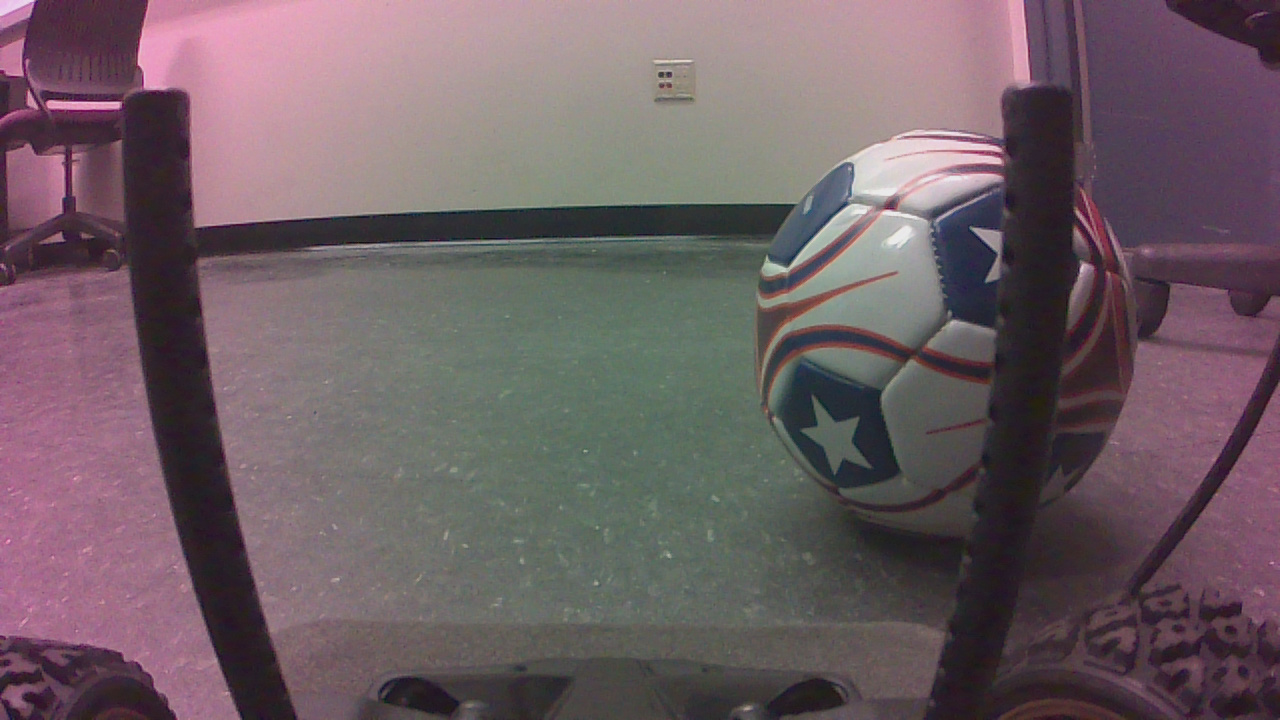ball: (758, 131, 1146, 543)
